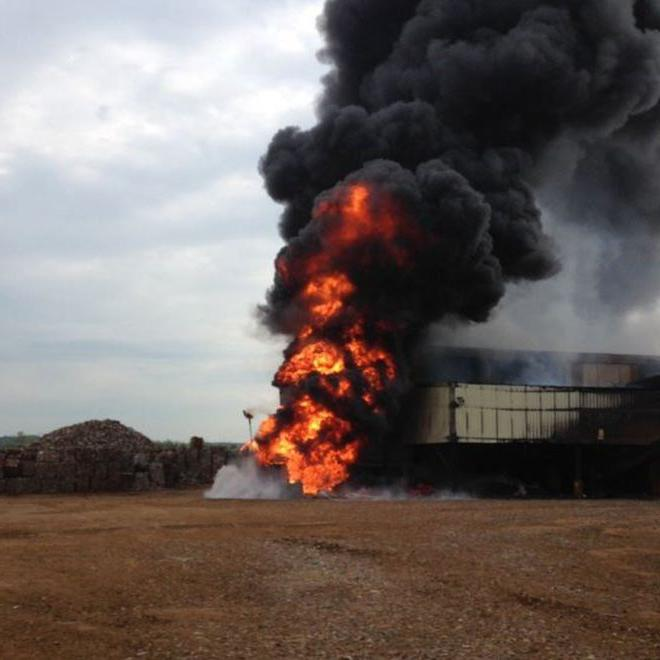fire: (250, 192, 396, 493)
